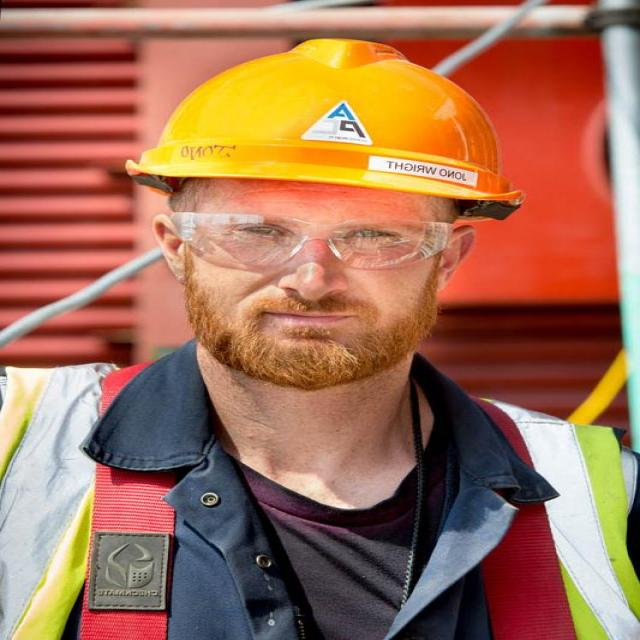Reflective-Jacket: (0, 360, 640, 640)
Safety-Helmet: (128, 39, 518, 202)
